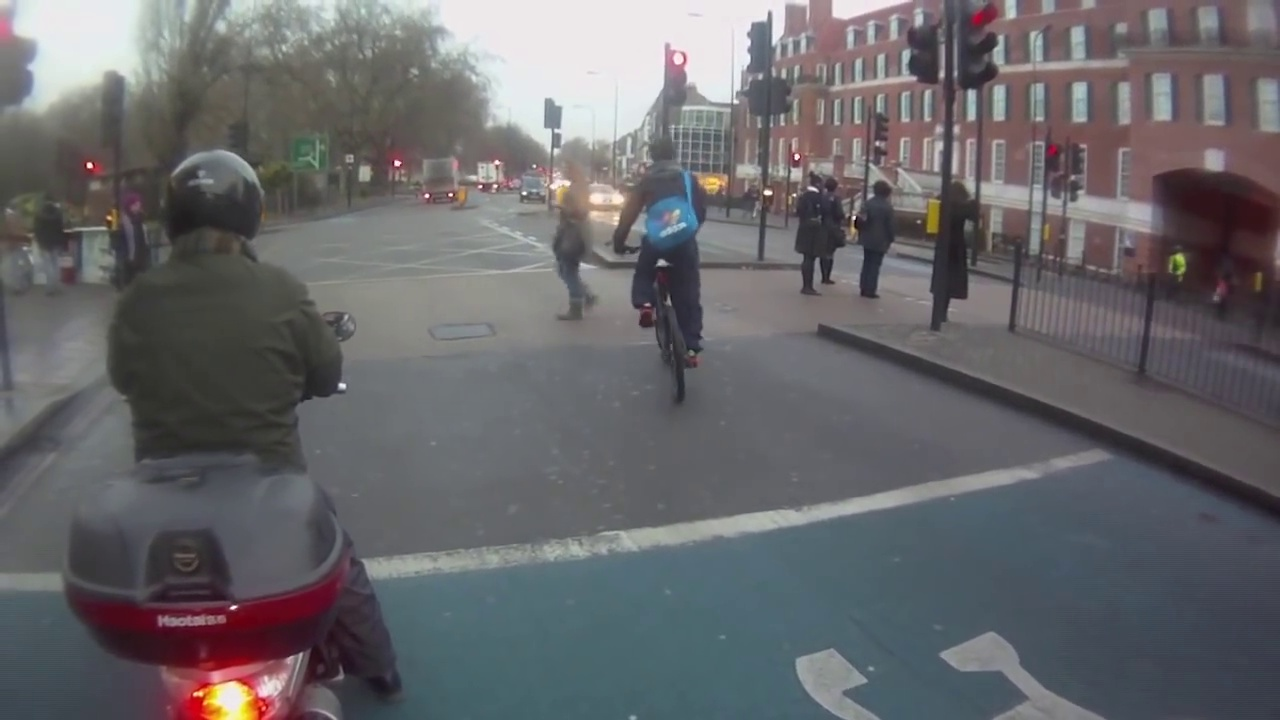cyclist_back: (628, 124, 717, 402)
